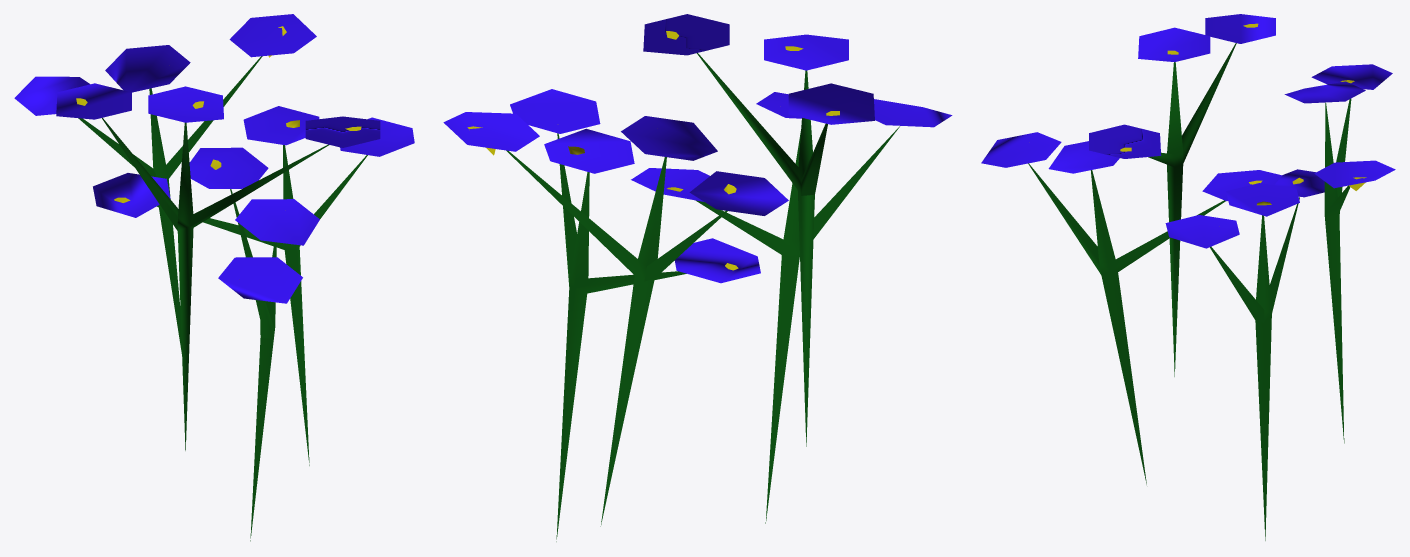
Rendered from PurpleAster_LOD1.obj.
3 renders of one model, left to right at view 1: azimuth 30°, elevation 25°; view 2: azimuth 150°, elevation 25°; view 3: azimuth 270°, elevation 25°, orthographic. The views are drawn at different scales.
Visible parts, largest first — view 1: PurpleAster_LOD1; view 2: PurpleAster_LOD1; view 3: PurpleAster_LOD1.
Boxes of the visible parts, x1,y1,x2,y2 form: PurpleAster_LOD1: (14,14,414,541); PurpleAster_LOD1: (443,14,952,541); PurpleAster_LOD1: (981,14,1395,540).
Bounding box in the file's own units: 24.17 × 30.03 × 26.96.
